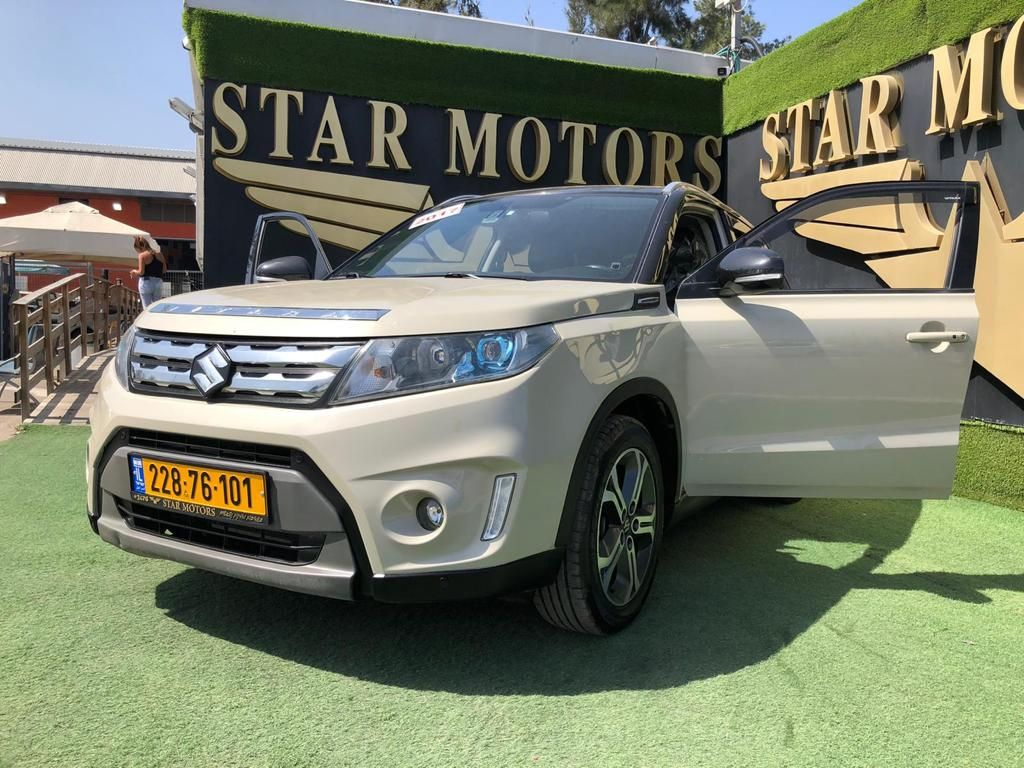licence: (124, 451, 272, 526)
